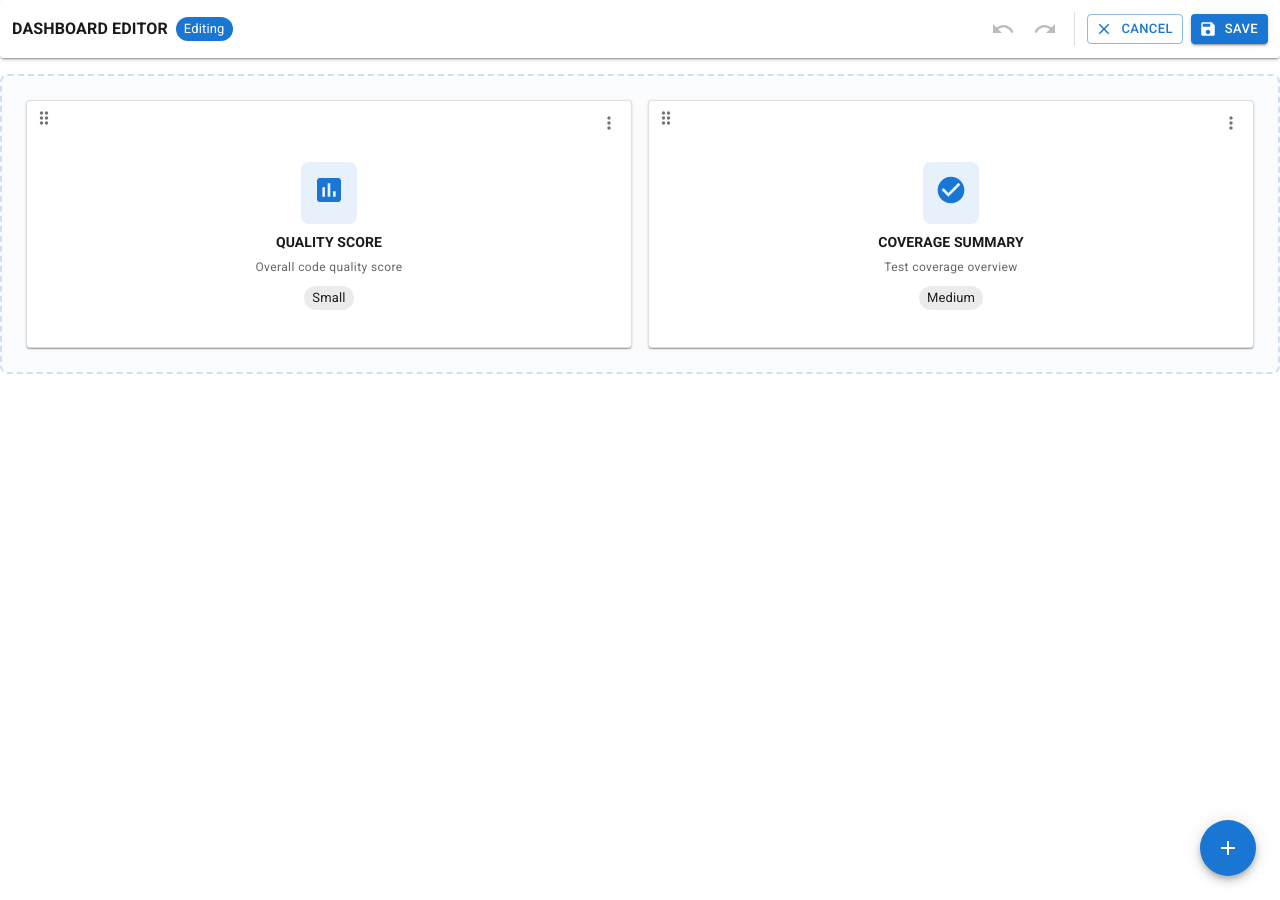
Test case: Widget Palette › should open palette when FAB is clicked in edit mode
Click the 7th button.
click(1228, 848)  # box x1=1200 y1=820 x2=1256 y2=876
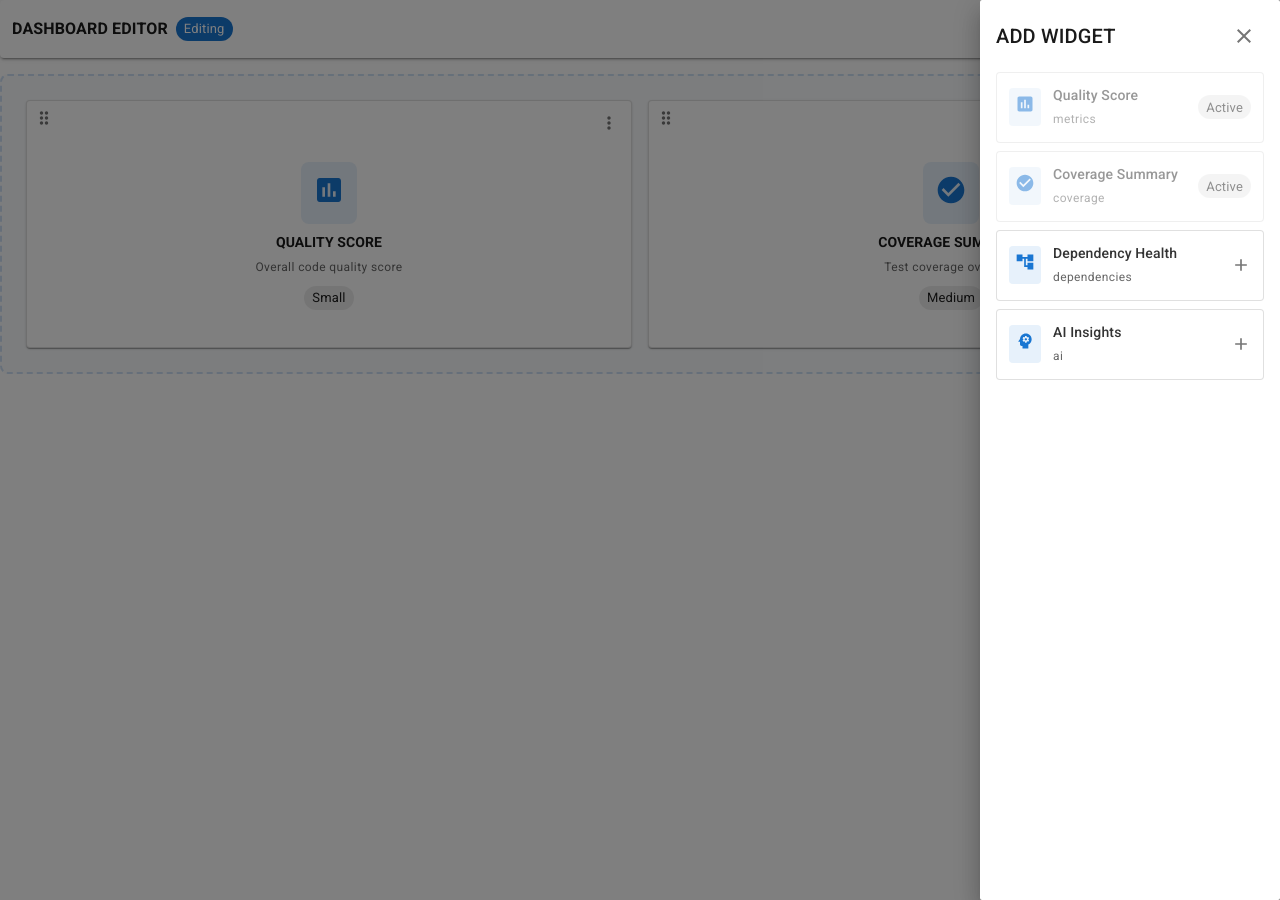
Result: the heading "Add Widget" is shown at x1=996 y1=20 x2=1116 y2=52
